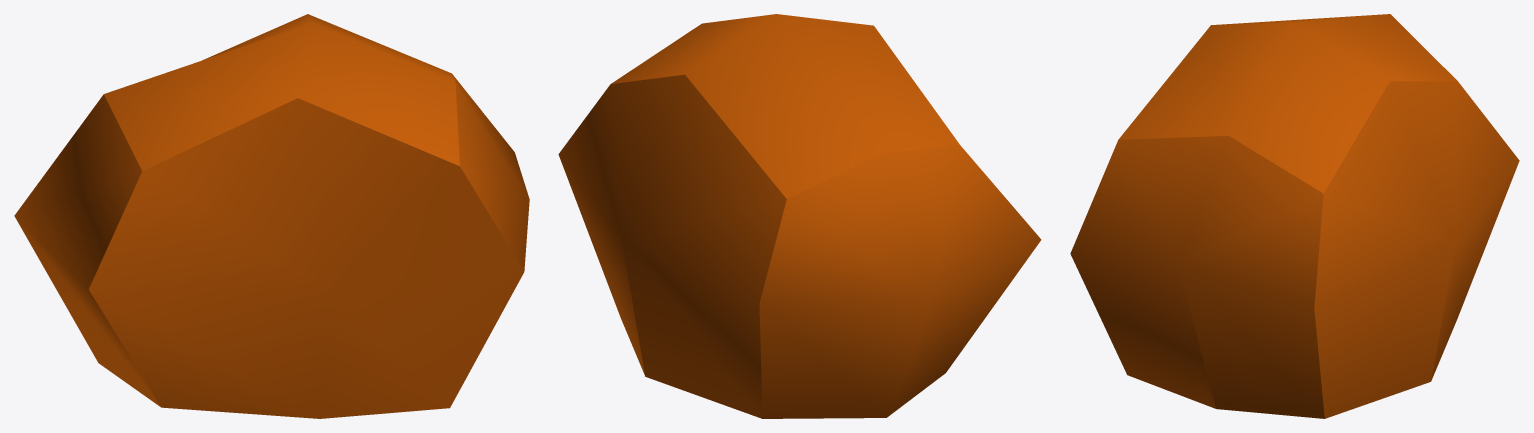
Rendered from small_rock_02.fbx.
3 renders of one model, left to right at view 1: azimuth 30°, elevation 25°; view 2: azimuth 150°, elevation 25°; view 3: azimuth 270°, elevation 25°, orthographic. The views are drawn at different scales.
Parts seen in each view (by area): view 1: small_rock02; view 2: small_rock02; view 3: small_rock02.
Boxes of the visible parts, x1=… form: small_rock02: x1=14, y1=14, x2=529, y2=418; small_rock02: x1=558, y1=14, x2=1041, y2=418; small_rock02: x1=1070, y1=14, x2=1519, y2=418.
Bounding box in the file's own units: 1.03 × 0.7209 × 0.8928.
